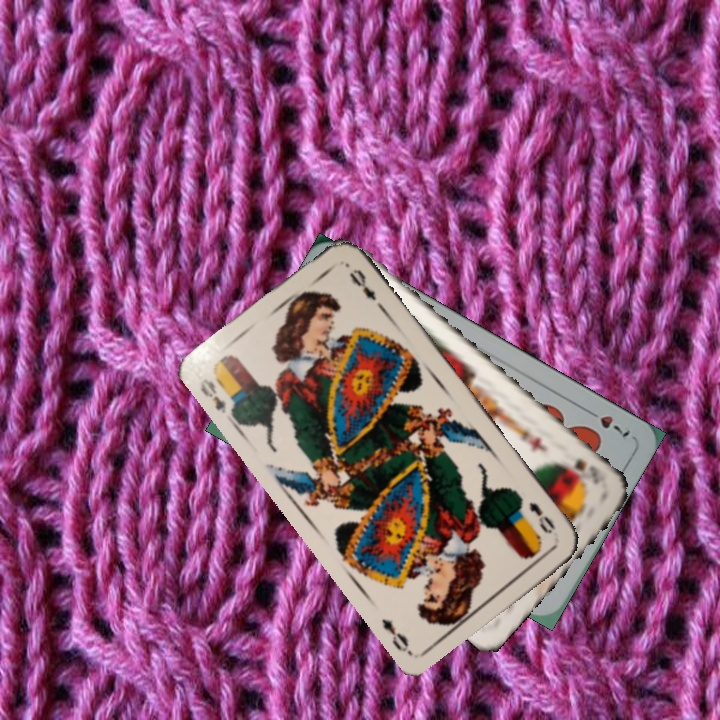EO: (196, 374, 229, 416), (524, 497, 558, 537)
H7: (580, 404, 633, 440)
SK: (570, 455, 602, 487)
